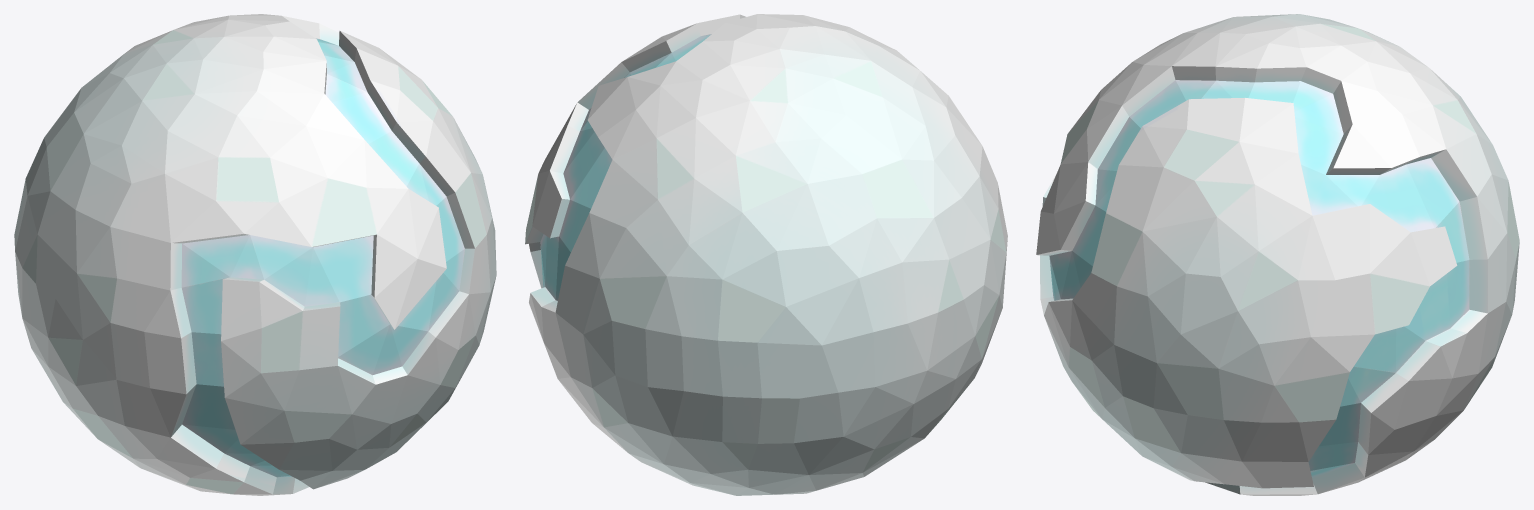
Rendered from planeta-gelo.fbx.
3 views of the same model, side by side, from view 1: azimuth 30°, elevation 25°; view 2: azimuth 150°, elevation 25°; view 3: azimuth 270°, elevation 25° (orthographic).
Parts seen in each view (by area): view 1: planeta-gelo, rio-planeta-gelo; view 2: planeta-gelo, rio-planeta-gelo; view 3: planeta-gelo, rio-planeta-gelo.
Part boxes in pixels (left/top/right/bottom): planeta-gelo: left=14, top=14, right=496, bottom=495; rio-planeta-gelo: left=181, top=38, right=464, bottom=477; planeta-gelo: left=525, top=14, right=1007, bottom=495; rio-planeta-gelo: left=540, top=34, right=711, bottom=300; planeta-gelo: left=1036, top=14, right=1519, bottom=495; rio-planeta-gelo: left=1049, top=80, right=1469, bottom=477.
Bounding box in the file's own units: 1424 × 1428 × 1428.
